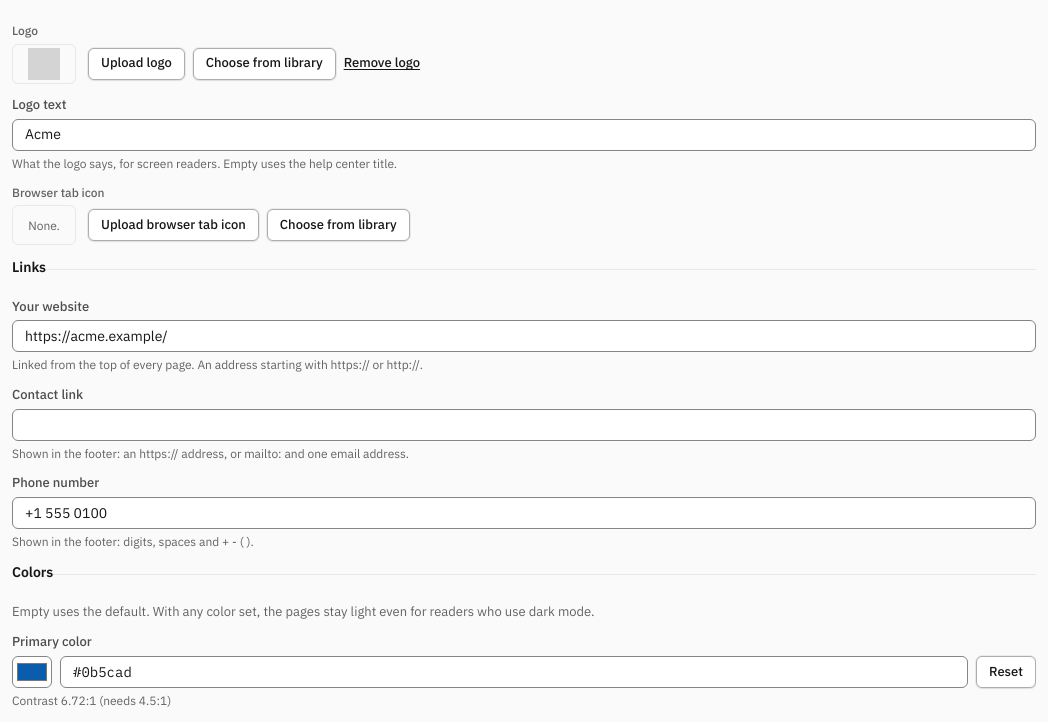
each color resets to its default, and the whole brand resets to the default look until saved
Expected: the field labelled "Primary color" holds "#0b5cad", [60, 656, 968, 688]
Click the button with aria-label "Reset primary color to default" at (1006, 672), box [976, 656, 1036, 688]
(page scrolled)
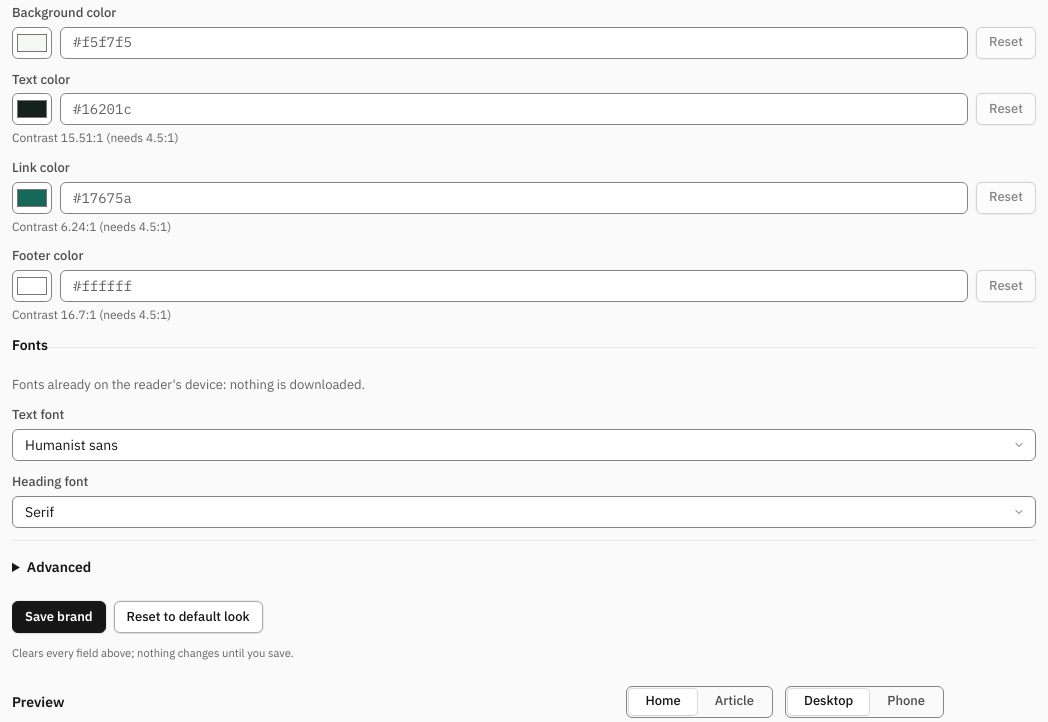
Click the button "Reset to default look" at (188, 617), box [114, 601, 263, 633]
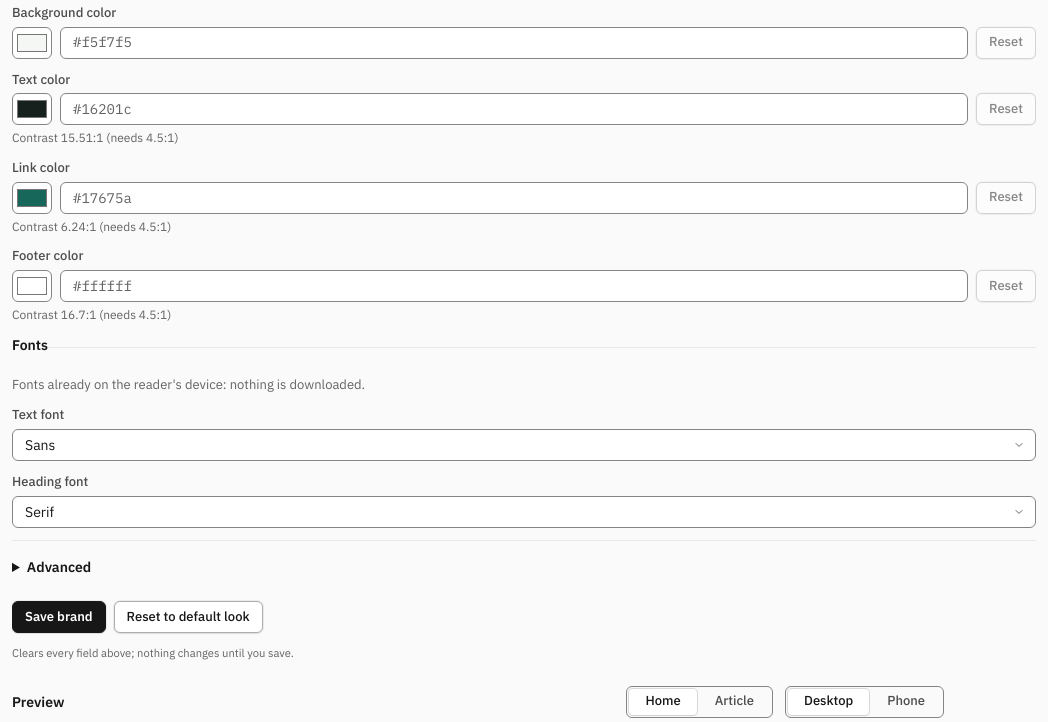
Expected: the picture "Logo" is not shown
Expected: the dropdown labelled "Text font" shows "Sans", [12, 429, 1036, 461]
Click the button "Save brand" at (59, 617), box [12, 601, 106, 633]
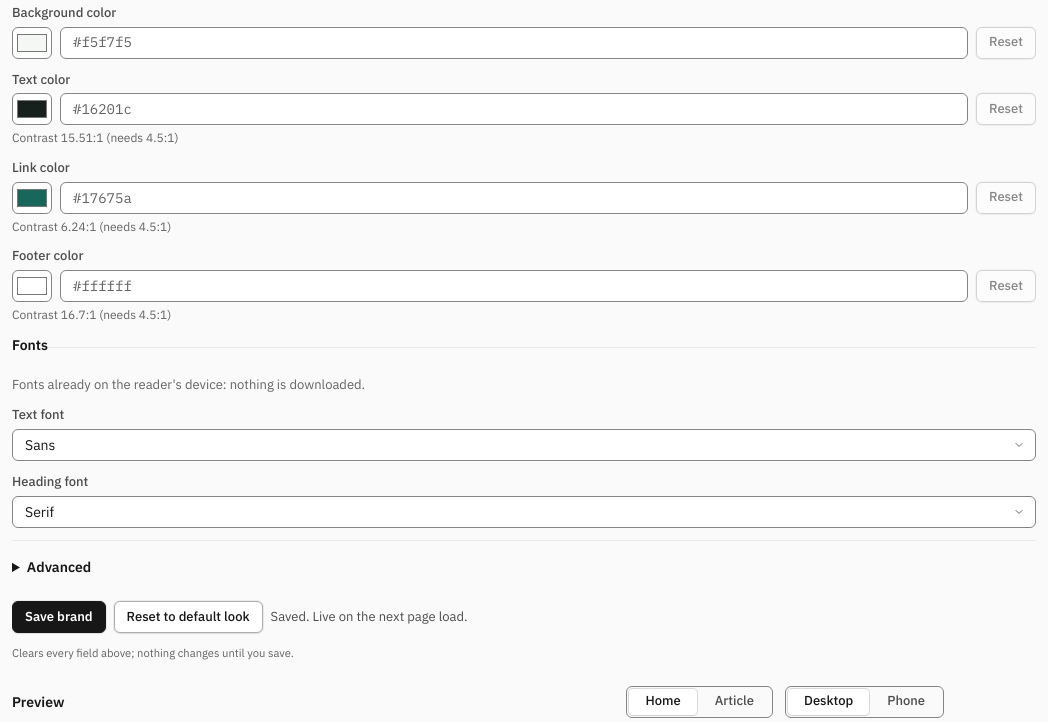
Expected: the text "Saved. Live on the next page load." is shown, [271, 608, 468, 627]
